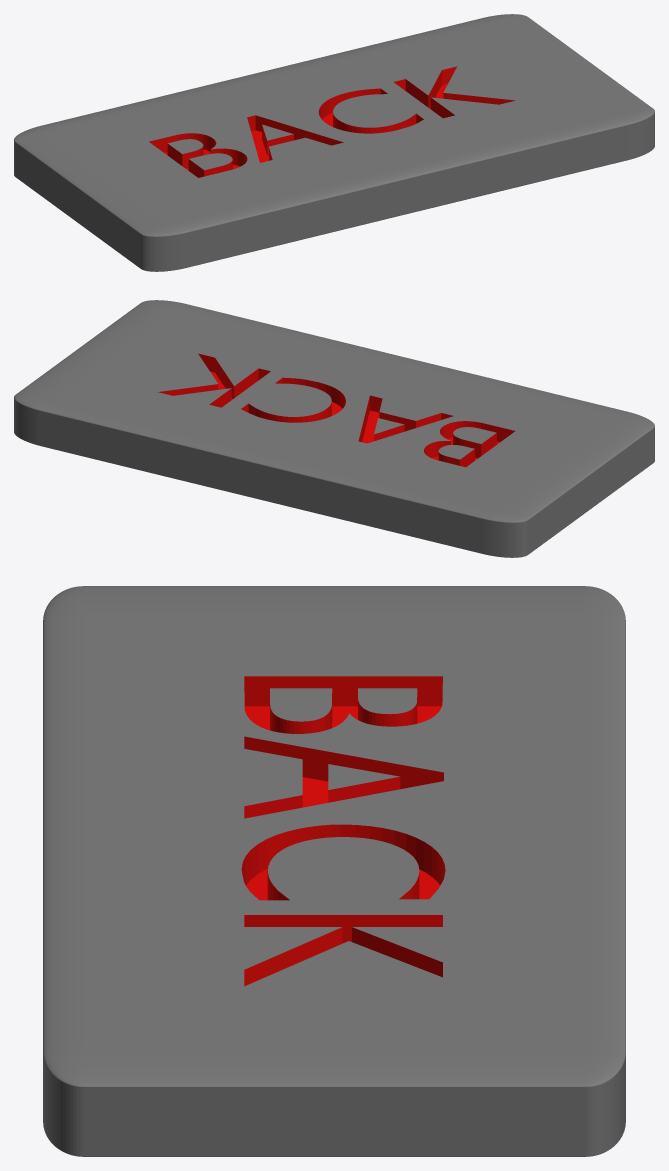
Rendered from Back.glb.
The picture shows the model from 3 angles, top to bottom: view 1: azimuth 30°, elevation 25°; view 2: azimuth 150°, elevation 25°; view 3: azimuth 270°, elevation 25°; orthographic projection. The views are drawn at different scales.
Visible parts, largest first — view 1: Cube; view 2: Cube; view 3: Cube.
Boxes of the visible parts, bbox=[...] form: Cube: bbox=[14, 14, 654, 271]; Cube: bbox=[14, 300, 654, 557]; Cube: bbox=[43, 586, 625, 1156].
Size of the model in its own units: 4.06 by 0.3052 by 2.
